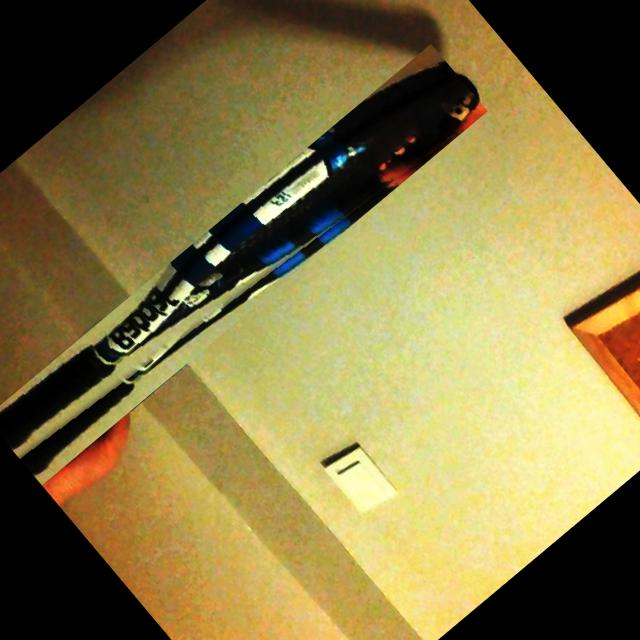TennisRacket: (0, 42, 486, 484)
